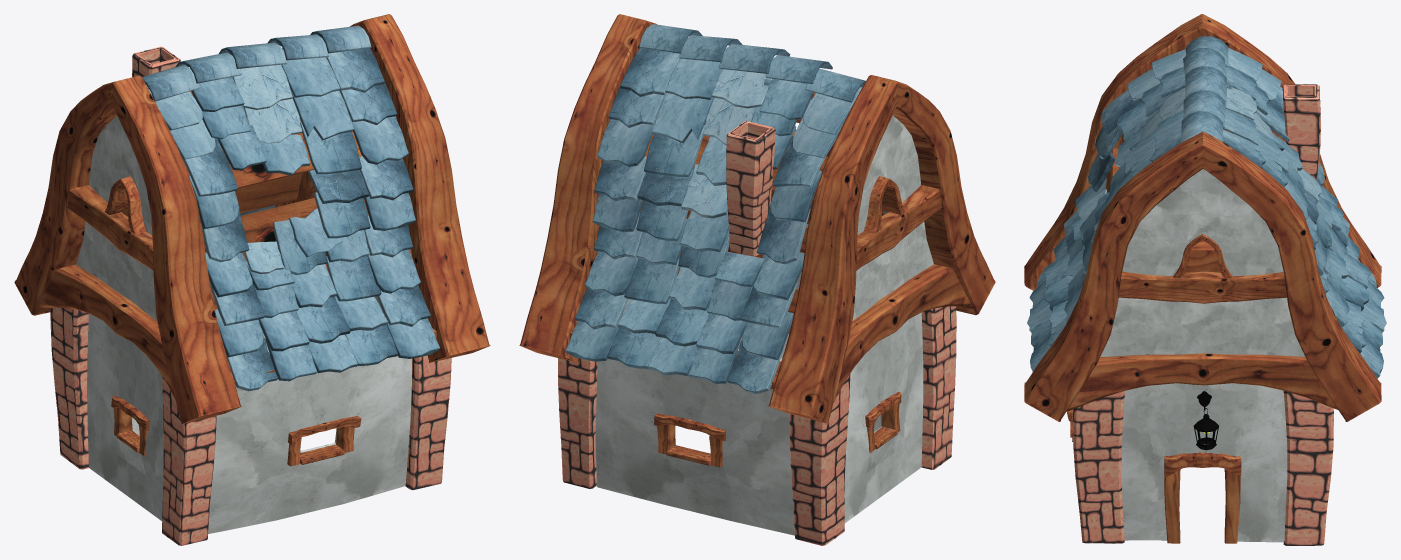
File: house-1.glb
3 renders of one model, left to right at view 1: azimuth 30°, elevation 25°; view 2: azimuth 150°, elevation 25°; view 3: azimuth 270°, elevation 25°, orthographic. The views are drawn at different scales.
Visible parts, largest first — view 1: predny_tram_Drevo_Mat_0, dosky_strecha1_Drevo_Mat_0, okna_Drevo_Mat_0, komin_stlpy_blinn_0; view 2: predny_tram_Drevo_Mat_0, komin_stlpy_blinn_0, okna_Drevo_Mat_0, dosky_strecha1_Drevo_Mat_0; view 3: predny_tram_Drevo_Mat_0, dvere_Drevo_Mat_0, komin_stlpy_blinn_0, lampa2_lampa_0.
Boxes of the visible parts, x1=… form: predny_tram_Drevo_Mat_0: x1=14, y1=14, x2=490, y2=545; dosky_strecha1_Drevo_Mat_0: x1=125, y1=77, x2=436, y2=386; okna_Drevo_Mat_0: x1=111, y1=395, x2=361, y2=466; komin_stlpy_blinn_0: x1=132, y1=46, x2=180, y2=77; predny_tram_Drevo_Mat_0: x1=519, y1=14, x2=995, y2=545; komin_stlpy_blinn_0: x1=726, y1=121, x2=775, y2=256; okna_Drevo_Mat_0: x1=654, y1=392, x2=901, y2=467; dosky_strecha1_Drevo_Mat_0: x1=570, y1=92, x2=883, y2=388; predny_tram_Drevo_Mat_0: x1=1024, y1=14, x2=1386, y2=545; dvere_Drevo_Mat_0: x1=1164, y1=452, x2=1241, y2=543; komin_stlpy_blinn_0: x1=1282, y1=84, x2=1320, y2=180; lampa2_lampa_0: x1=1193, y1=391, x2=1218, y2=450.
Bounding box in the file's own units: 0.3672 × 0.4428 × 0.3566.
6 materials, 4 textured.
